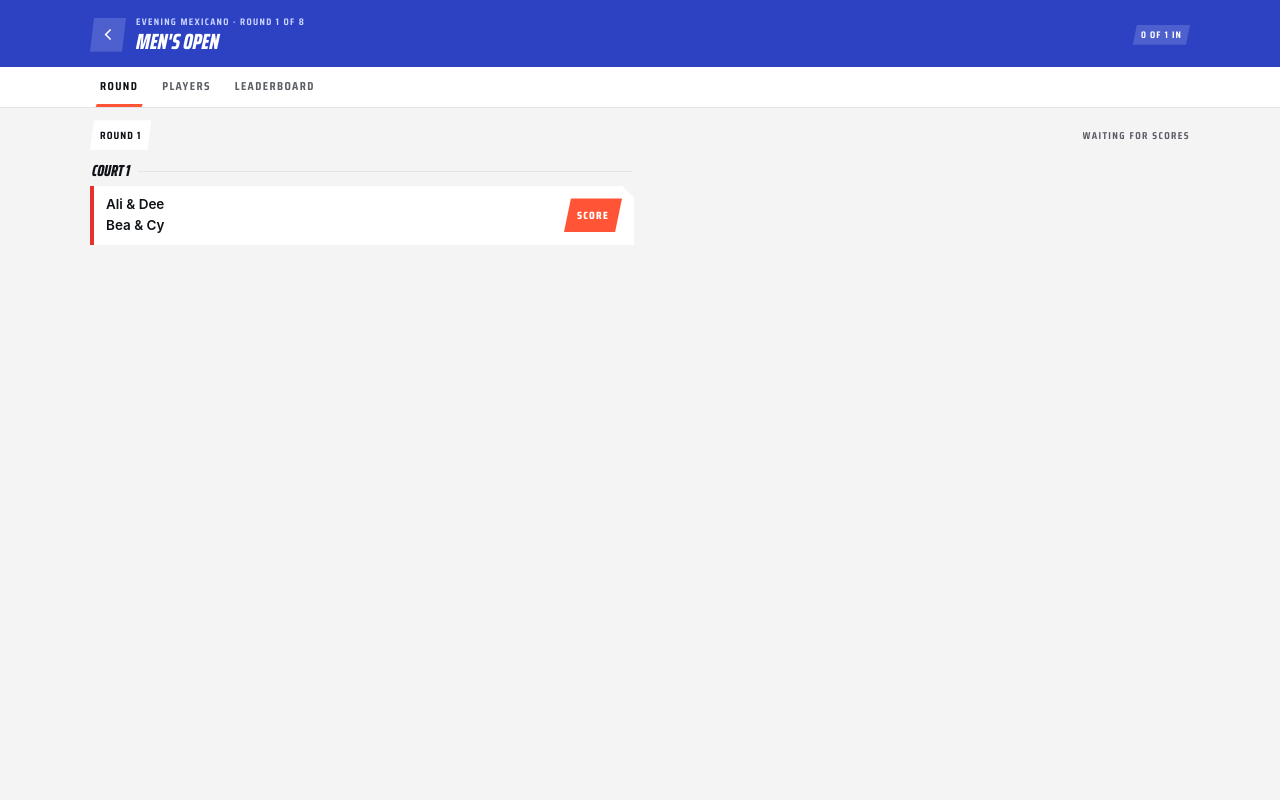
Test: Score opens the score dialog for that court
expect the heading "Court 1" is shown: met, box [92,158,130,183]
Click the button "Score": (593, 215) [564,198,622,232]
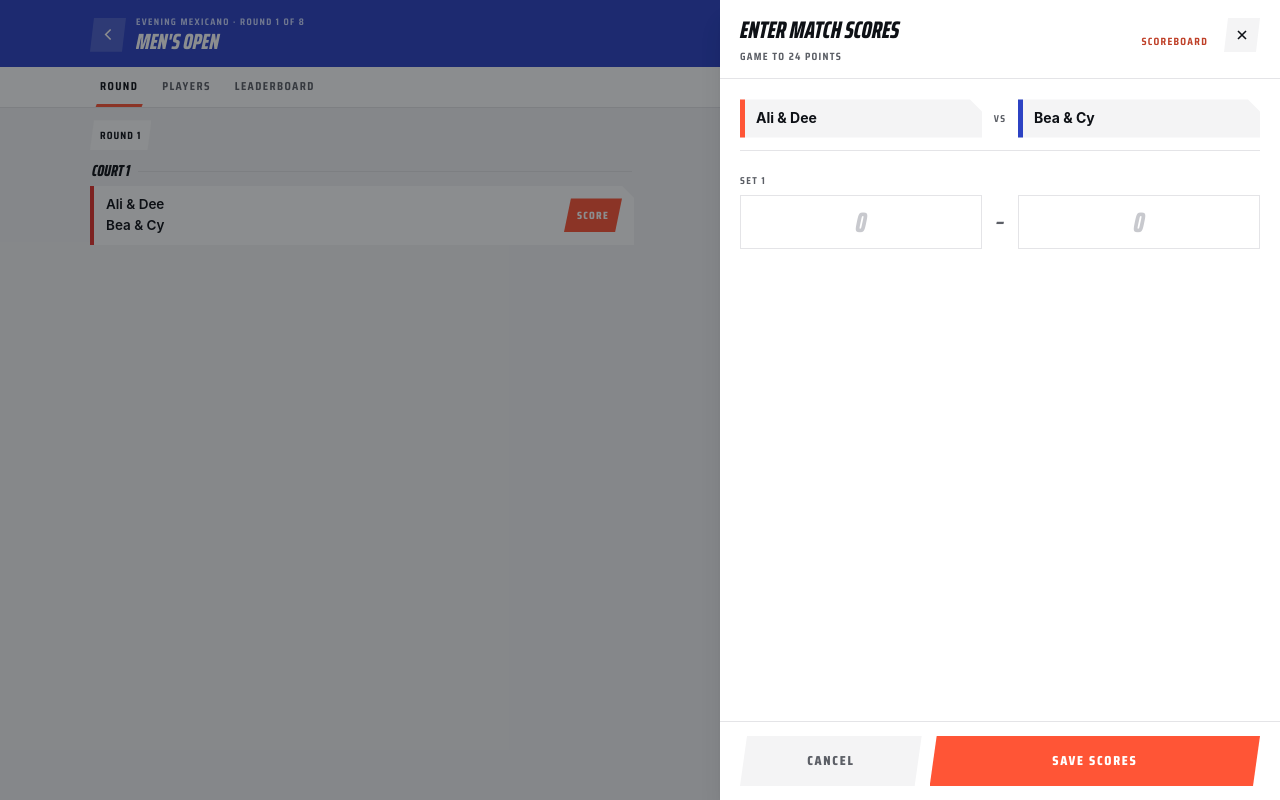
expect the dialog is shown: met, box [720,0,1279,799]
